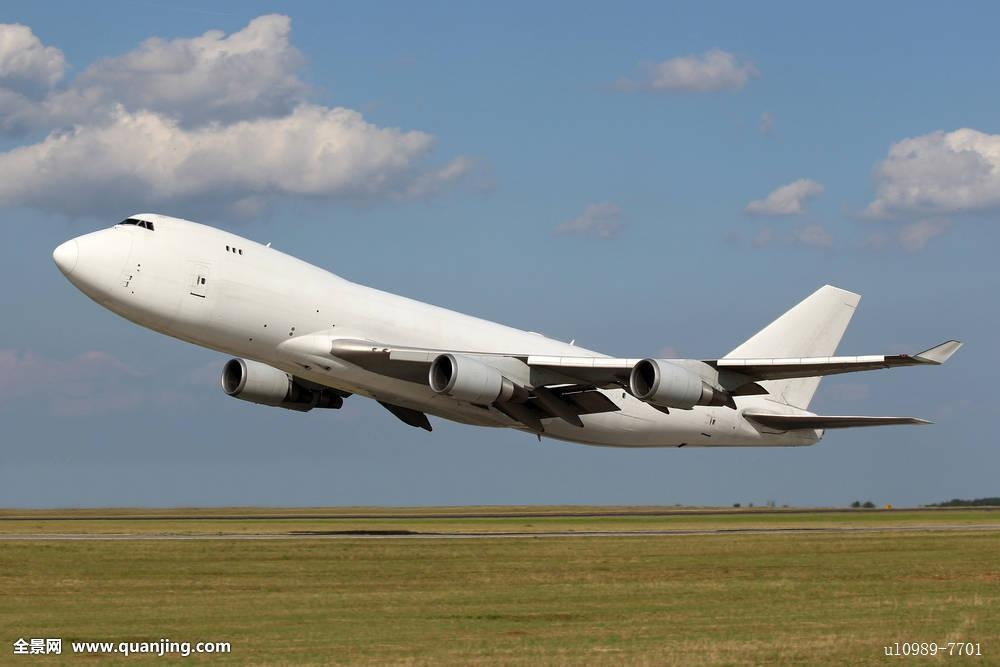airplane: (52, 206, 969, 446)
